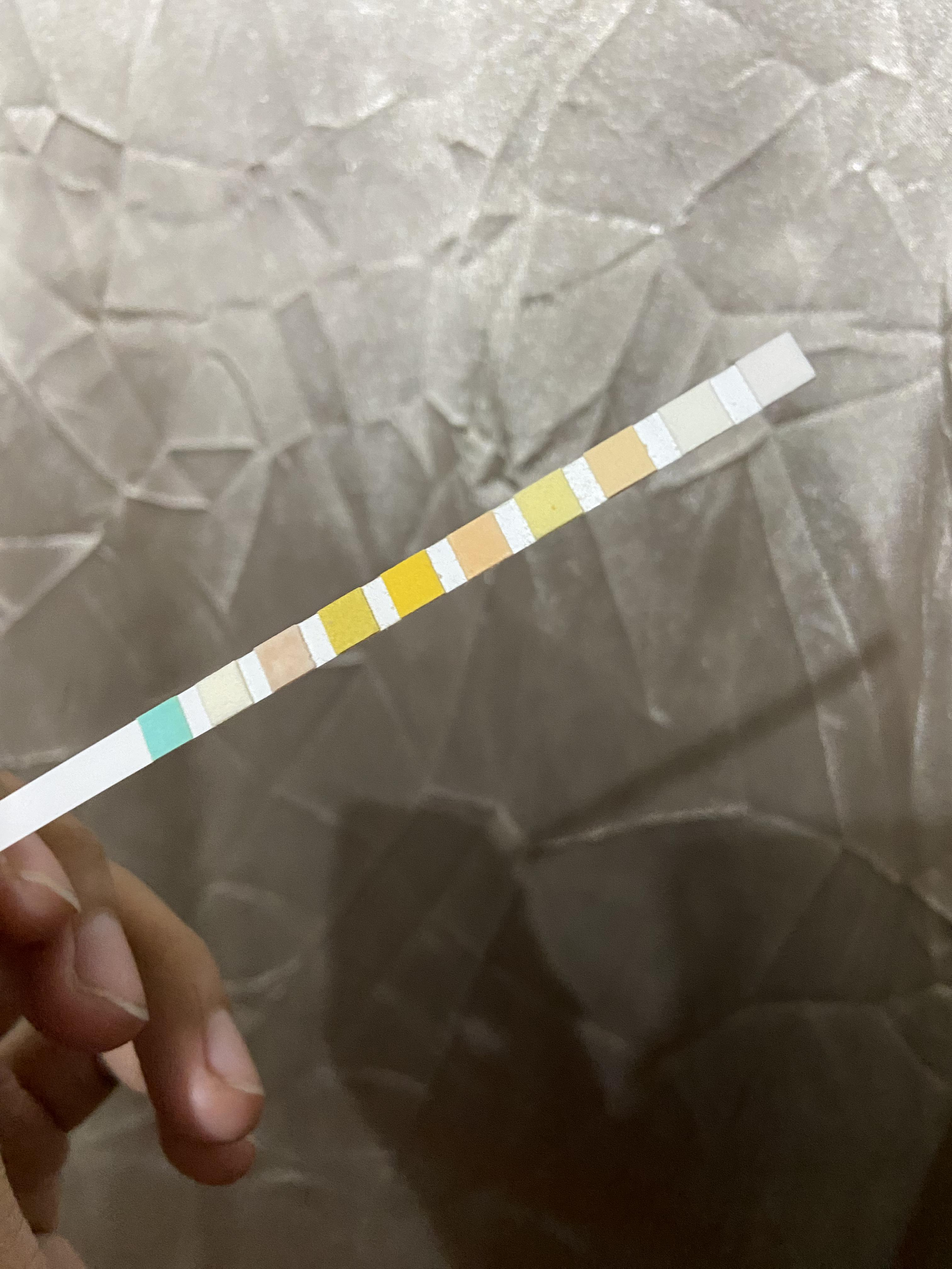Bilirubin: (205, 678, 244, 710)
Blood: (392, 567, 434, 599)
Glucose: (145, 713, 184, 744)
Ketone: (266, 640, 305, 675)
Leukocytes: (750, 352, 801, 386)
Nitrite: (670, 401, 721, 433)
Protein: (526, 488, 571, 520)
SpGravity: (332, 603, 367, 639)
Urobilinogen: (598, 444, 644, 478)
pH: (460, 528, 501, 561)
strip: (1, 332, 817, 852)
